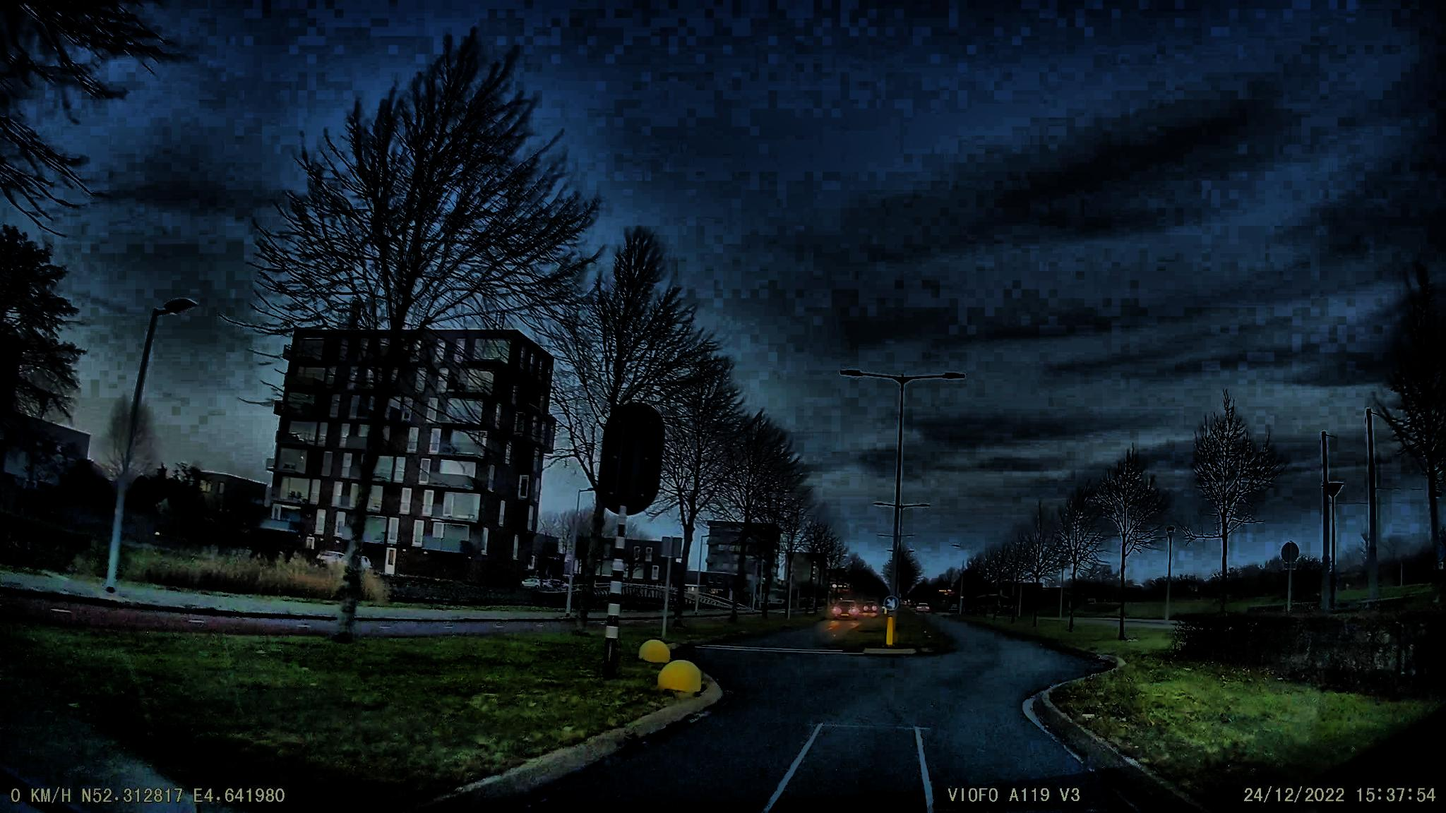Roads: (411, 616, 1212, 813)
